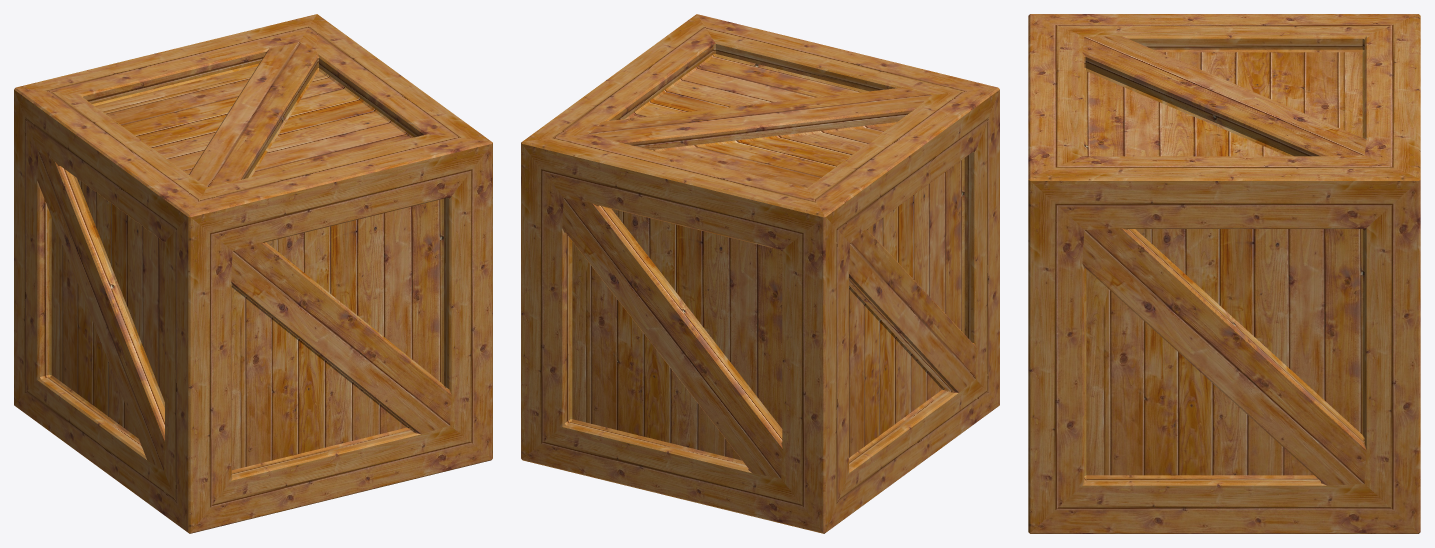
File: crate.fbx
The picture shows the model from 3 angles, left to right: view 1: azimuth 30°, elevation 25°; view 2: azimuth 150°, elevation 25°; view 3: azimuth 270°, elevation 25°; orthographic projection. The views are drawn at different scales.
Parts seen in each view (by area): view 1: Crate_LOD0; view 2: Crate_LOD0; view 3: Crate_LOD0.
Boxes of the visible parts, x1=… form: Crate_LOD0: x1=14, y1=14, x2=492, y2=533; Crate_LOD0: x1=521, y1=14, x2=999, y2=533; Crate_LOD0: x1=1028, y1=14, x2=1420, y2=533.
Size of what is drawn, in the model's own units: 2 by 2 by 2.
